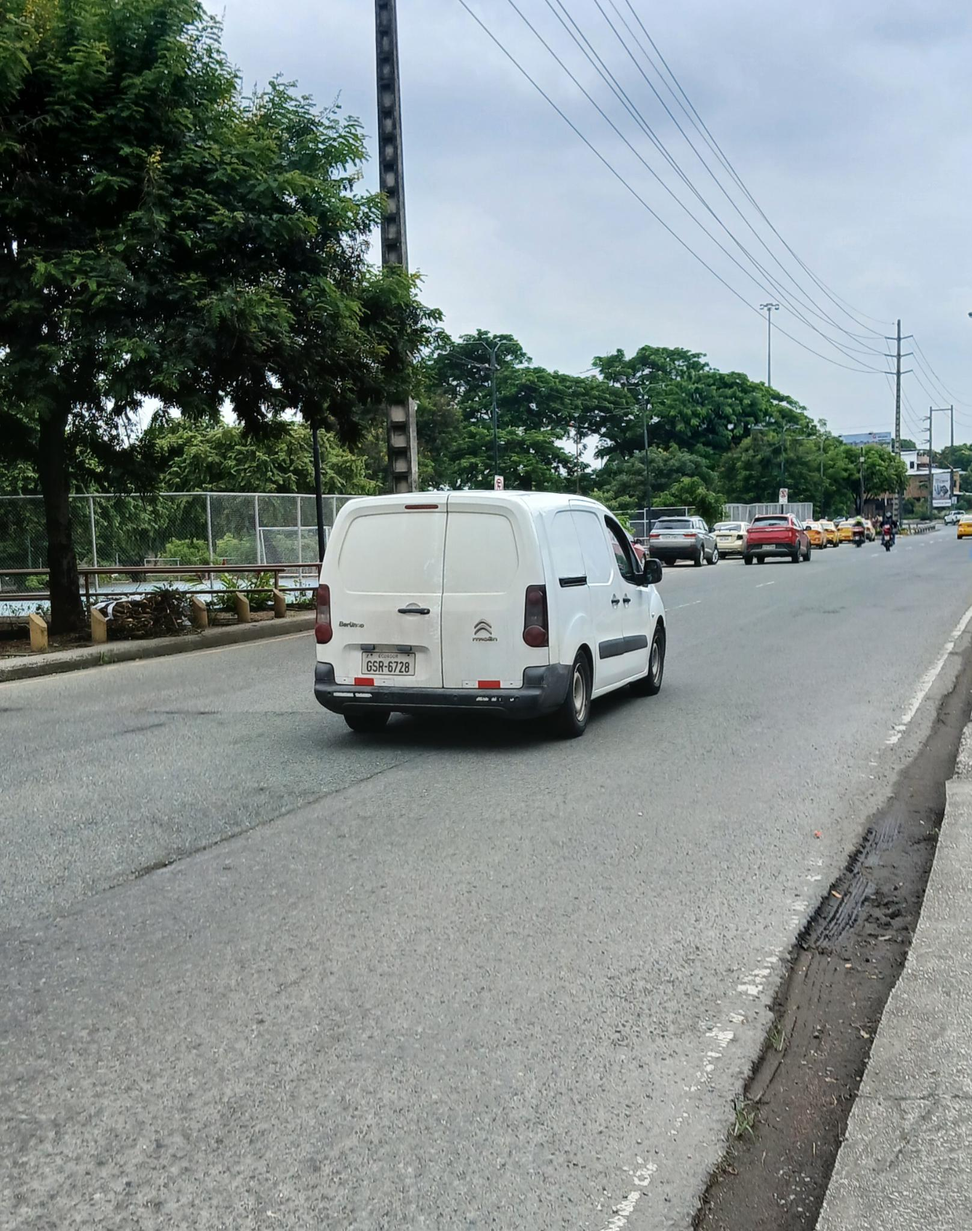license_plate: (361, 649, 414, 675), (660, 535, 683, 543), (754, 543, 779, 550)
